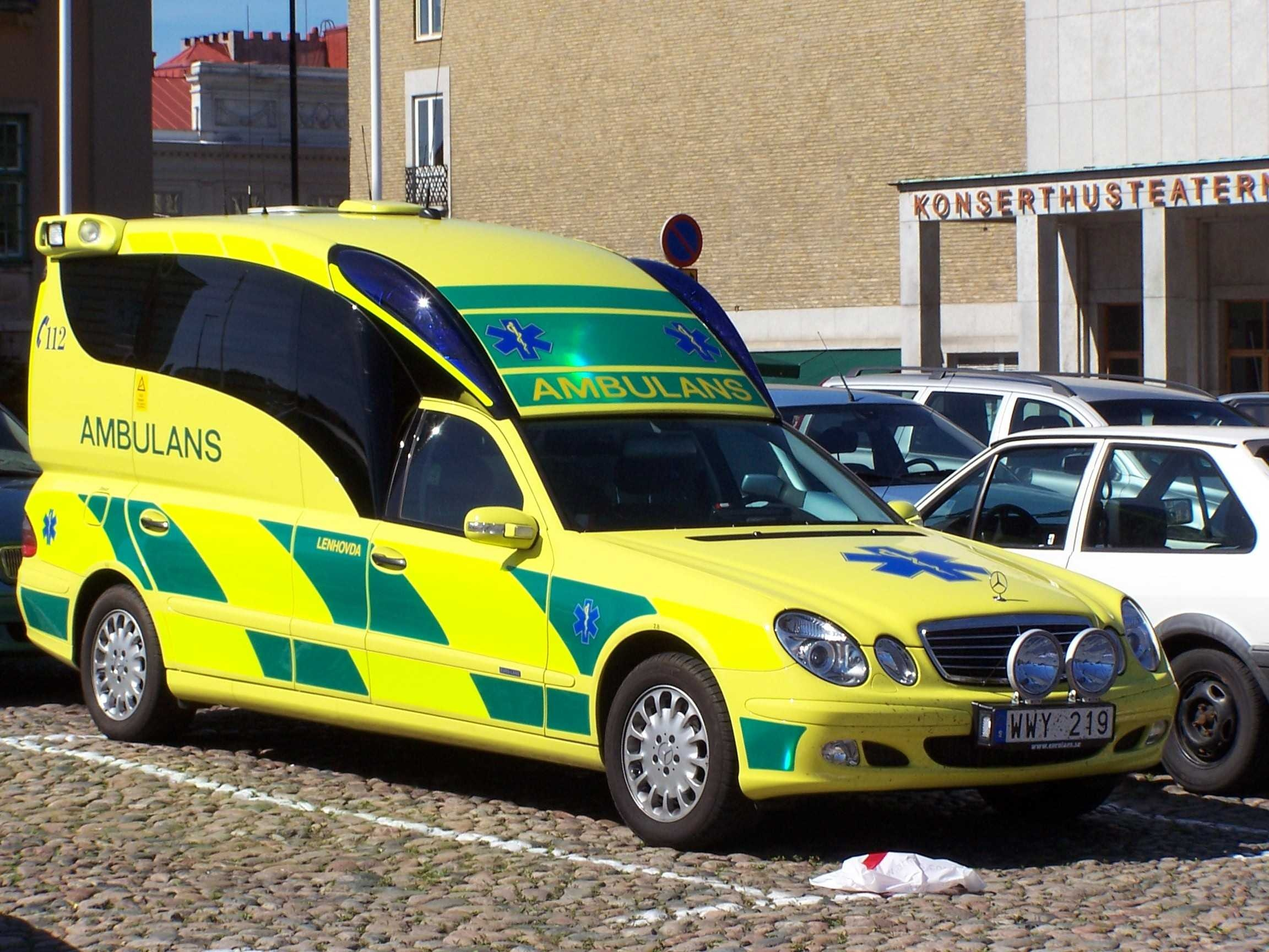Ambulance: (31, 177, 1188, 814)
